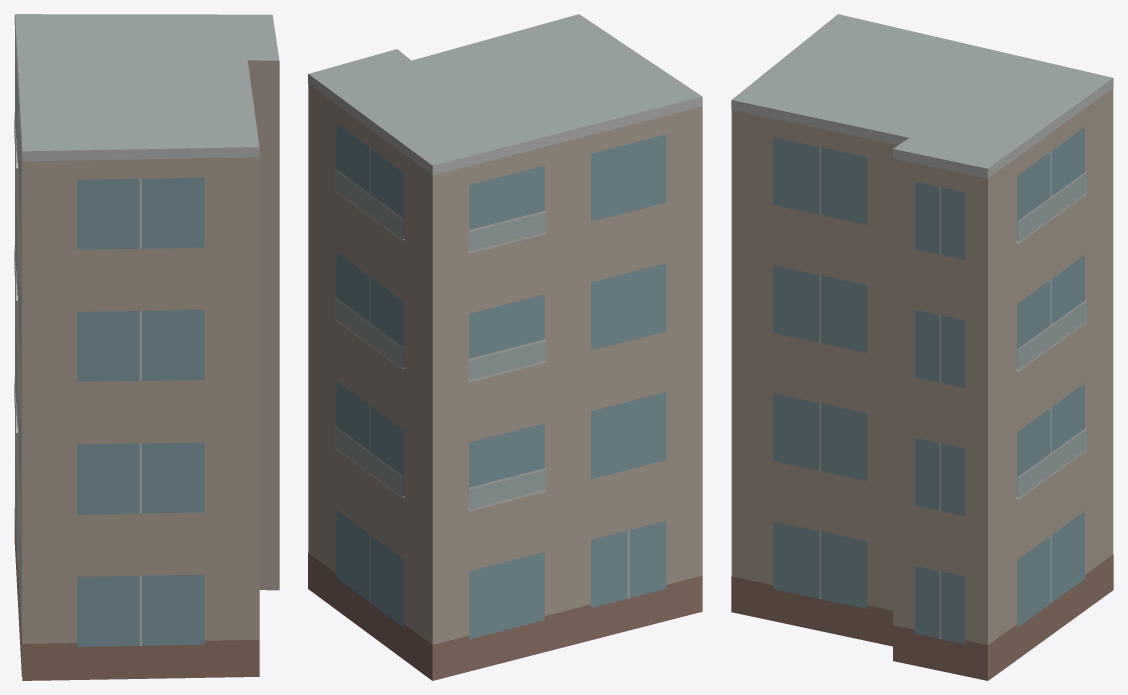
The model's file is survey-upis-32727032.glb.
3 renders of one model, left to right at view 1: azimuth 30°, elevation 25°; view 2: azimuth 150°, elevation 25°; view 3: azimuth 270°, elevation 25°, orthographic. The views are drawn at different scales.
Parts seen in each view (by area): view 1: survey-upis-32727032.tmp; view 2: survey-upis-32727032.tmp; view 3: survey-upis-32727032.tmp.
Boxes of the visible parts, x1=… form: survey-upis-32727032.tmp: x1=14, y1=14, x2=279, y2=680; survey-upis-32727032.tmp: x1=308, y1=14, x2=702, y2=680; survey-upis-32727032.tmp: x1=731, y1=14, x2=1113, y2=680.
Bounding box in the file's own units: 8.3 × 12.8 × 8.66.
